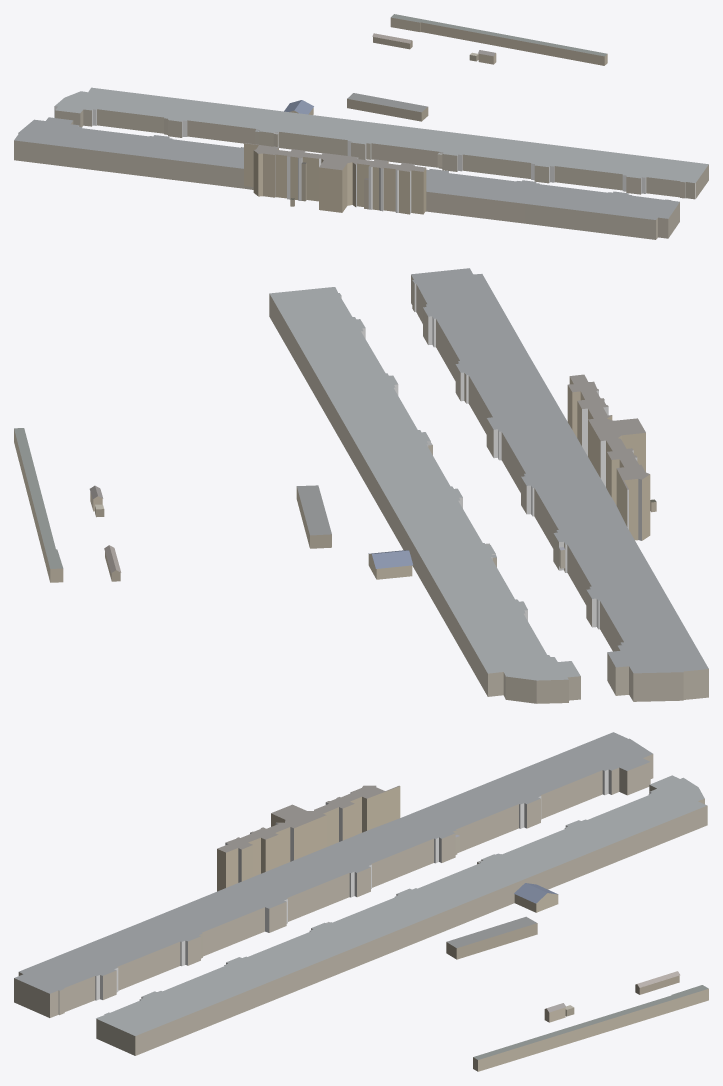
3 views of the same model, one above another, from view 1: azimuth 30°, elevation 25°; view 2: azimuth 150°, elevation 25°; view 3: azimuth 270°, elevation 25° (orthographic). The views are drawn at different scales.
Parts seen in each view (by area): view 1: tuile; view 2: tuile; view 3: tuile.
Part boxes in pixels (<box>): tuile: <box>14,14,708,239</box>; tuile: <box>14,268,708,703</box>; tuile: <box>14,732,708,1071</box>.
Size of the model in its own units: 406 by 33.12 by 370.
